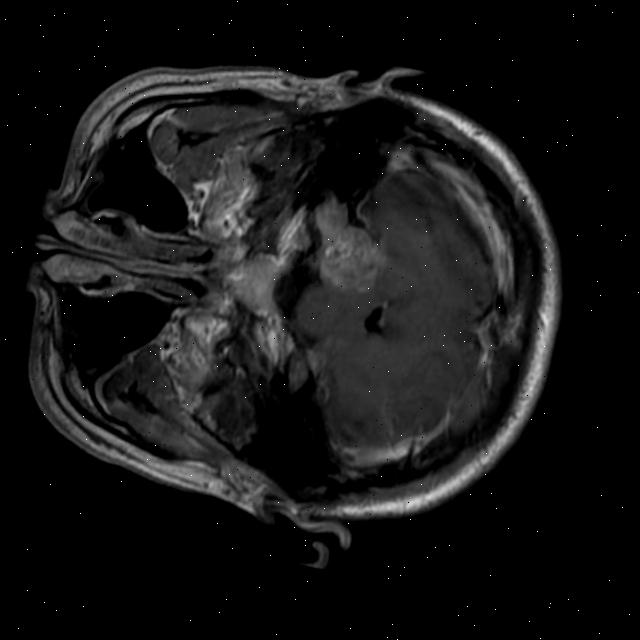Meningioma: (315, 215, 391, 301)
